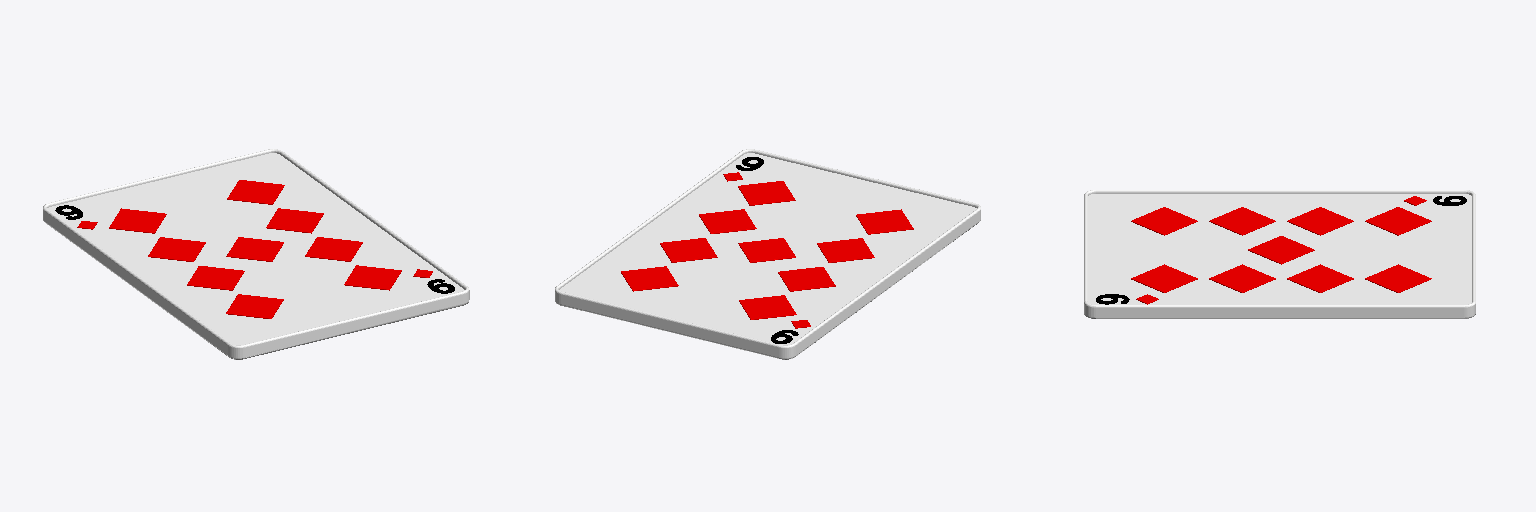
The model's file is diamonds_9.obj.
3 renders of one model, left to right at view 1: azimuth 30°, elevation 25°; view 2: azimuth 150°, elevation 25°; view 3: azimuth 270°, elevation 25°, orthographic.
Visible parts, largest first — view 1: rect4266.021, rect4266.075, path4884-1-4.008, path4884-1-4-9.006, path4884-1-7-8.004, path4884-1-7.005, path4884-1-4-1-4.004, path4884-1.008, path4884-1-40-8-2.001, path4884-1-4-1.002, path4884-1-40.006, rect4266.110; view 2: rect4266.021, rect4266.075, path4884-1-4.008, path4884-1.008, path4884-1-4-1.002, path4884-1-40.006, path4884-1-4-9.006, path4884-1-4-1-4.004, path4884-1-40-8-2.001, path4884-1-7-8.004, path4884-1-7.005; view 3: rect4266.021, rect4266.075, path4884-1.008, path4884-1-4.008, path4884-1-40.006, path4884-1-40-8-2.001, path4884-1-4-1.002, path4884-1-7.005, path4884-1-4-9.006, path4884-1-4-1-4.004, path4884-1-7-8.004.
Part boxes in pixels (left/top/right/bottom): rect4266.021: left=47, top=153, right=464, bottom=344; rect4266.075: left=43, top=149, right=469, bottom=358; path4884-1-4.008: left=226, top=294, right=283, bottom=318; path4884-1-4-9.006: left=344, top=265, right=401, bottom=290; path4884-1-7-8.004: left=266, top=208, right=323, bottom=233; path4884-1-7.005: left=148, top=237, right=205, bottom=261; path4884-1-4-1-4.004: left=305, top=237, right=362, bottom=261; path4884-1.008: left=109, top=208, right=166, bottom=233; path4884-1-40-8-2.001: left=226, top=237, right=283, bottom=261; path4884-1-4-1.002: left=187, top=266, right=244, bottom=290; path4884-1-40.006: left=227, top=180, right=284, bottom=204; rect4266.110: left=46, top=223, right=468, bottom=359; rect4266.021: left=559, top=153, right=976, bottom=344; rect4266.075: left=555, top=149, right=980, bottom=358; path4884-1-4.008: left=856, top=209, right=913, bottom=234; path4884-1.008: left=739, top=295, right=796, bottom=319; path4884-1-4-1.002: left=817, top=238, right=874, bottom=262; path4884-1-40.006: left=621, top=266, right=678, bottom=291; path4884-1-4-9.006: left=738, top=181, right=795, bottom=205; path4884-1-4-1-4.004: left=699, top=209, right=756, bottom=233; path4884-1-40-8-2.001: left=738, top=238, right=795, bottom=262; path4884-1-7-8.004: left=660, top=238, right=717, bottom=262; path4884-1-7.005: left=778, top=267, right=835, bottom=291; rect4266.021: left=1088, top=194, right=1471, bottom=304; rect4266.075: left=1084, top=190, right=1475, bottom=318; path4884-1.008: left=1365, top=207, right=1431, bottom=235; path4884-1-4.008: left=1131, top=207, right=1197, bottom=235; path4884-1-40.006: left=1365, top=264, right=1431, bottom=292; path4884-1-40-8-2.001: left=1248, top=236, right=1314, bottom=264; path4884-1-4-1.002: left=1209, top=207, right=1275, bottom=235; path4884-1-7.005: left=1287, top=207, right=1353, bottom=235; path4884-1-4-9.006: left=1131, top=264, right=1197, bottom=292; path4884-1-4-1-4.004: left=1209, top=264, right=1275, bottom=292; path4884-1-7-8.004: left=1287, top=264, right=1353, bottom=292.
Bounding box in the file's own units: 2.88 × 0.1966 × 4.08.